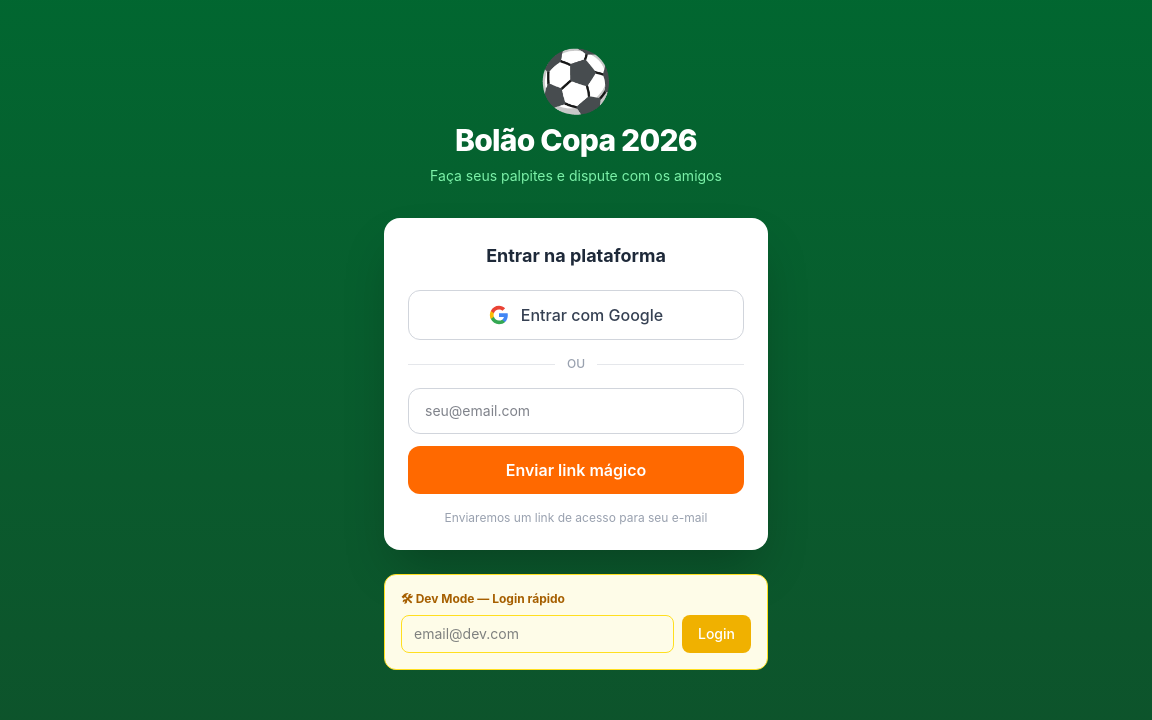
Test: LoginPage › shows loading state while sending magic link
Step 1. Type "test@test.com" into the field with placeholder "seu@email.com" → (576, 411), box [408,388,744,434]
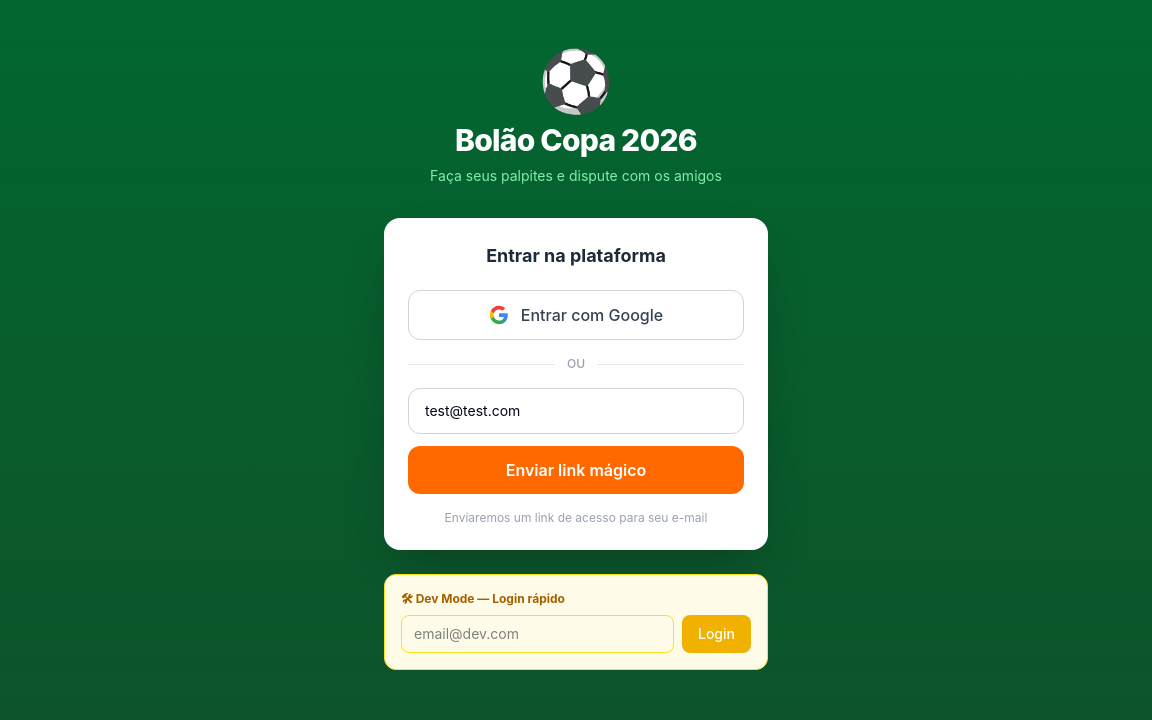
Step 2. Click the button "Enviar link mágico" → (576, 470), box [408,446,744,494]
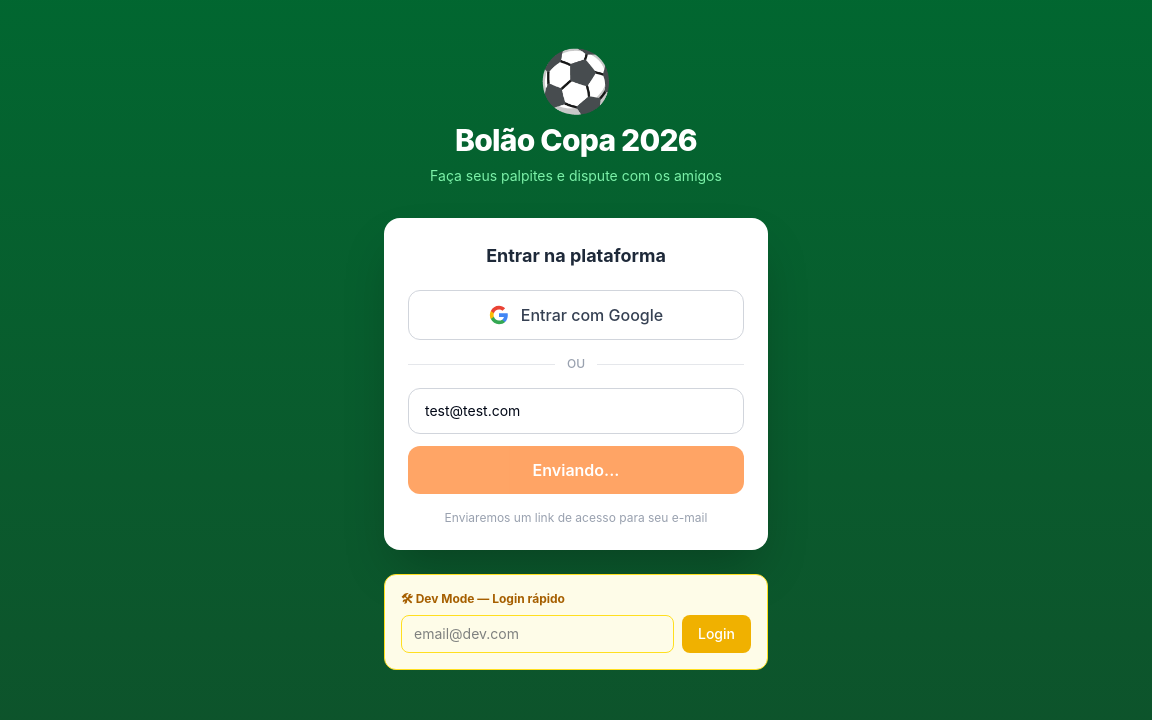
Check: the button "Enviando..." is shown, box [408,446,744,494]
